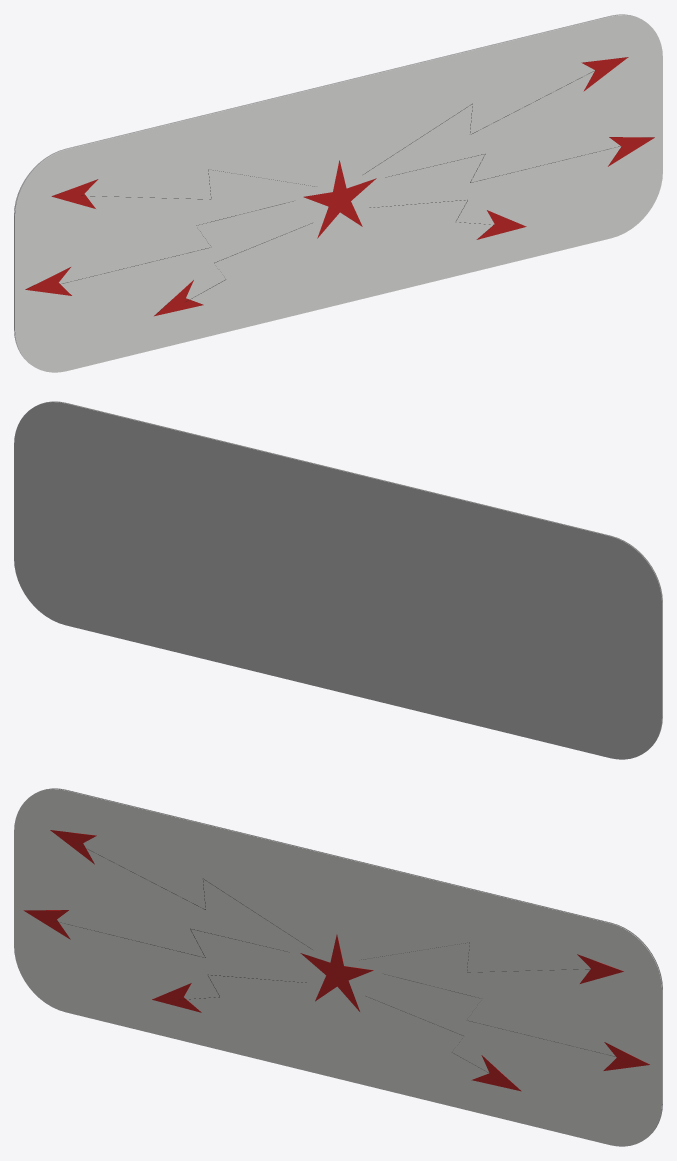
The picture shows the model from 3 angles, top to bottom: view 1: azimuth 30°, elevation 25°; view 2: azimuth 150°, elevation 25°; view 3: azimuth 330°, elevation 25°; orthographic projection.
Parts seen in each view (by area): view 1: M9b_p00, M9b_p04, M9b_dos, M9b_p03, M9b_p08, M9b_p01, M9b_p09, M9b_p10, M9b_p02; view 2: M9b_dos, M9b_p00; view 3: M9b_p00, M9b_p04, M9b_dos, M9b_p10, M9b_p01, M9b_p03, M9b_p02, M9b_p08, M9b_p09.
Part boxes in pixels (x1=…): M9b_p00: x1=14, y1=15, x2=662, y2=372; M9b_p04: x1=303, y1=160, x2=376, y2=238; M9b_dos: x1=14, y1=14, x2=641, y2=362; M9b_p03: x1=154, y1=280, x2=203, y2=316; M9b_p08: x1=581, y1=57, x2=628, y2=91; M9b_p01: x1=51, y1=179, x2=98, y2=208; M9b_p09: x1=608, y1=137, x2=654, y2=166; M9b_p10: x1=476, y1=210, x2=526, y2=239; M9b_p02: x1=25, y1=267, x2=71, y2=295; M9b_dos: x1=14, y1=402, x2=662, y2=759; M9b_p00: x1=35, y1=401, x2=662, y2=749; M9b_p00: x1=14, y1=789, x2=662, y2=1146; M9b_p04: x1=300, y1=934, x2=373, y2=1011; M9b_dos: x1=35, y1=788, x2=662, y2=1136; M9b_p10: x1=471, y1=1055, x2=521, y2=1091; M9b_p01: x1=50, y1=830, x2=96, y2=864; M9b_p03: x1=152, y1=983, x2=201, y2=1012; M9b_p02: x1=23, y1=910, x2=70, y2=939; M9b_p08: x1=577, y1=954, x2=623, y2=983; M9b_p09: x1=603, y1=1042, x2=649, y2=1070.
Size of the model in its own units: 0.7 by 0.229 by 0.0071.
